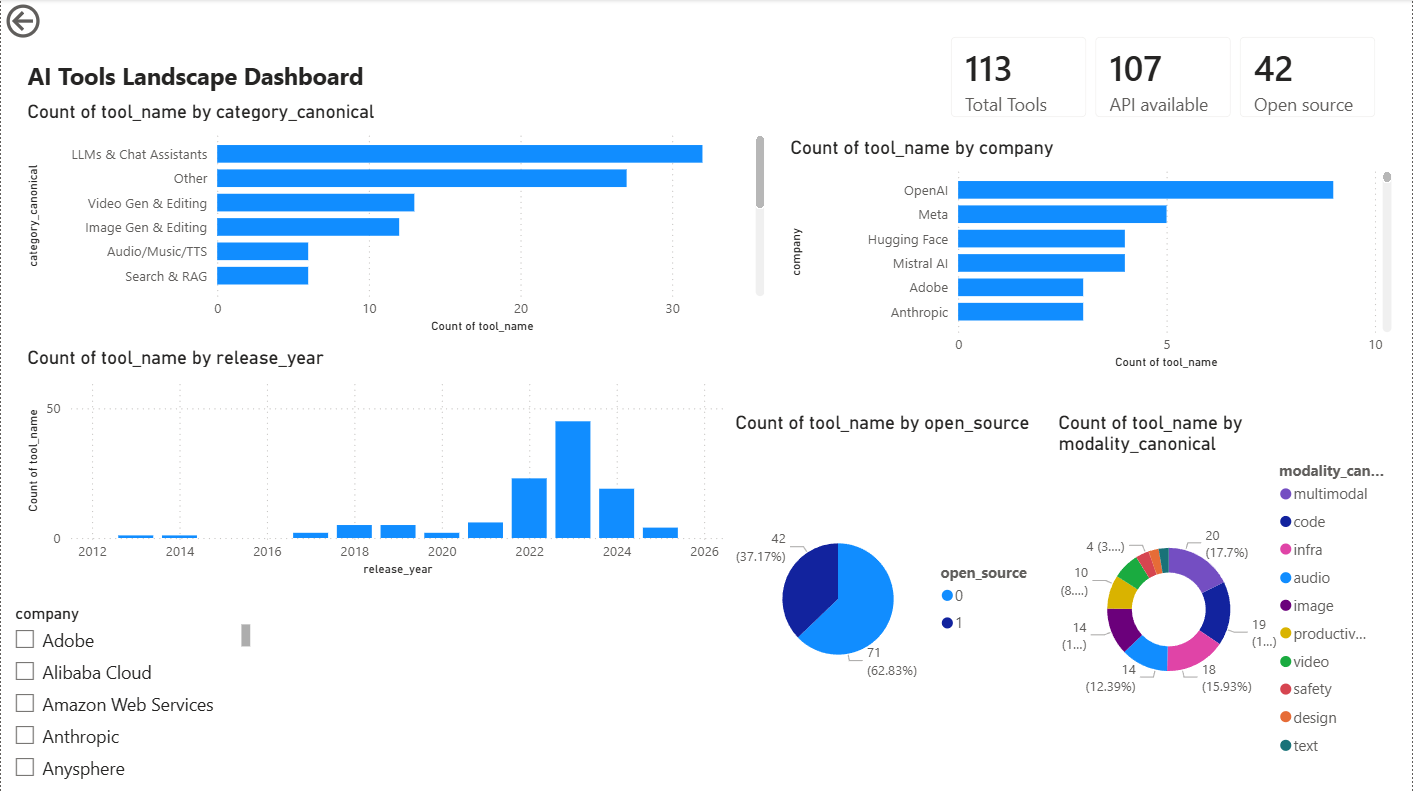

The dashboard page shown, as its layout file describes it:
{"tool":"powerbi","page":{"name":"Page 1","canvas":[1280,720],"ordinal":0},"visuals":[{"type":"clusteredBarChart","fields":{"Category":["clean_ai_tools_dataset.category_canonical"],"Y":["CountNonNull(clean_ai_tools_dataset.tool_name)"]},"box":[19,91.6,678.3,215.8],"z":0},{"type":"clusteredBarChart","fields":{"Category":["clean_ai_tools_dataset.company"],"Y":["CountNonNull(clean_ai_tools_dataset.tool_name)"]},"box":[710.9,124.2,555,215.8],"z":1000},{"type":"pieChart","fields":{"Category":["clean_ai_tools_dataset.open_source"],"Y":["CountNonNull(clean_ai_tools_dataset.tool_name)"]},"box":[661.1,373.6,292.9,321.9],"z":1001},{"type":"clusteredColumnChart","fields":{"Category":["clean_ai_tools_dataset.release_year"],"Y":["CountNonNull(clean_ai_tools_dataset.tool_name)"]},"box":[19,314.7,642,213.1],"z":1002},{"type":"donutChart","fields":{"Category":["clean_ai_tools_dataset.modality_canonical"],"Y":["CountNonNull(clean_ai_tools_dataset.tool_name)"]},"box":[954,373.6,311.9,321.9],"z":1003},{"type":"textbox","box":[19,49.9,317.4,41.7],"z":1005},{"type":"slicer","fields":{"Values":["clean_ai_tools_dataset.company"]},"box":[0,544.1,231.2,175.9],"z":1006},{"type":"actionButton","box":[0,0,100,40],"z":1007},{"type":"cardVisual","fields":{"Data":["CountNonNull(clean_ai_tools_dataset.tool_name)","Sum(clean_ai_tools_dataset.api_available)","Sum(clean_ai_tools_dataset.open_source)"]},"box":[844.2,17.2,421.7,107],"z":1008}]}

Visuals, with their boxes in screenshot pixels (x1, y1, x2, y2), scaled from the page's 1280x720 canvas onto the 1413x793 screenshot:
clusteredBarChart - clean_ai_tools_dataset.category_canonical x CountNonNull(clean_ai_tools_dataset.tool_name): 21,101,770,339
clusteredBarChart - clean_ai_tools_dataset.company x CountNonNull(clean_ai_tools_dataset.tool_name): 785,137,1397,374
pieChart - clean_ai_tools_dataset.open_source x CountNonNull(clean_ai_tools_dataset.tool_name): 730,411,1053,766
clusteredColumnChart - clean_ai_tools_dataset.release_year x CountNonNull(clean_ai_tools_dataset.tool_name): 21,347,730,581
donutChart - clean_ai_tools_dataset.modality_canonical x CountNonNull(clean_ai_tools_dataset.tool_name): 1053,411,1397,766
textbox: 21,55,371,101
slicer - clean_ai_tools_dataset.company: 0,599,255,792
actionButton: 0,0,110,44
cardVisual - CountNonNull(clean_ai_tools_dataset.tool_name) x Sum(clean_ai_tools_dataset.api_available): 932,19,1397,137
